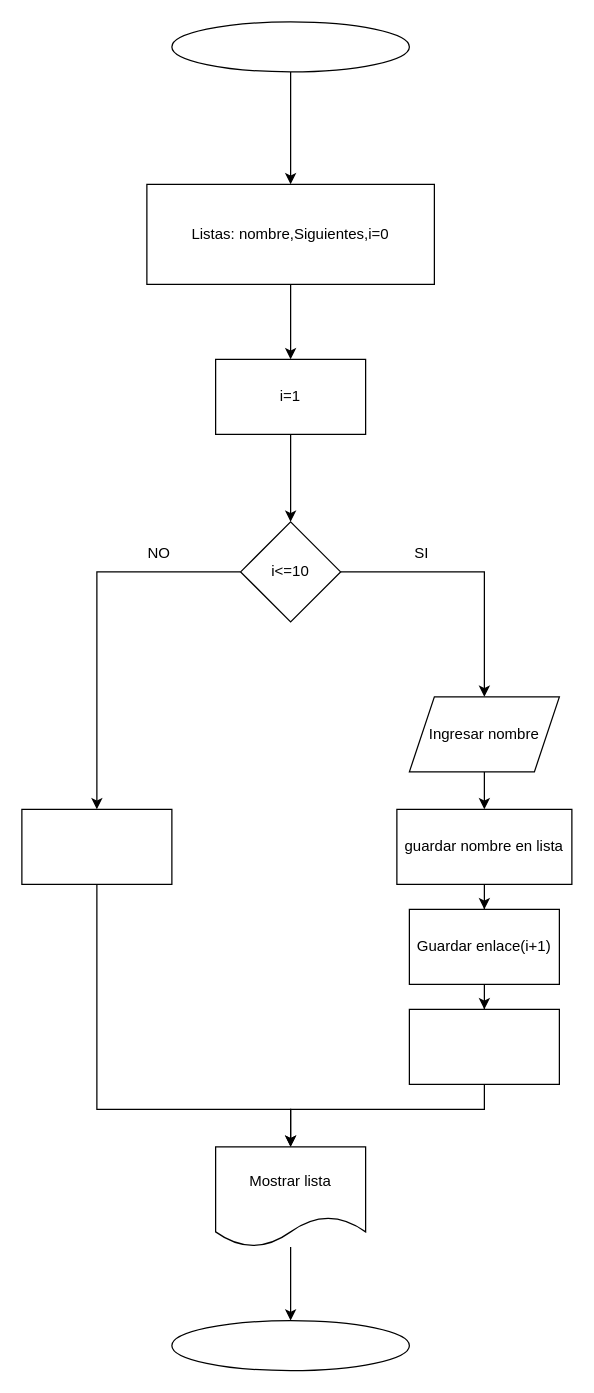
Image size: 594x1393. Some labels were removed from this diagram. Here are the shapes that lost their labels. From the top down, the centre of each, then its label:
the point at 290,46: INICIO
the point at 96,846: Ultimo enlace=0
the point at 483,1046: i+=1
the point at 290,1345: FIN
